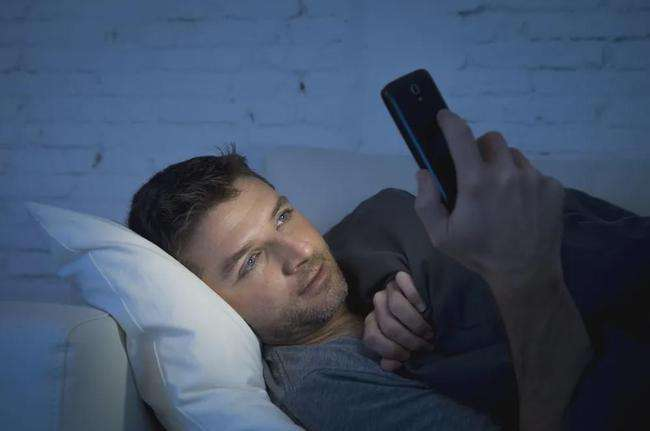reading: (378, 66, 568, 285)
